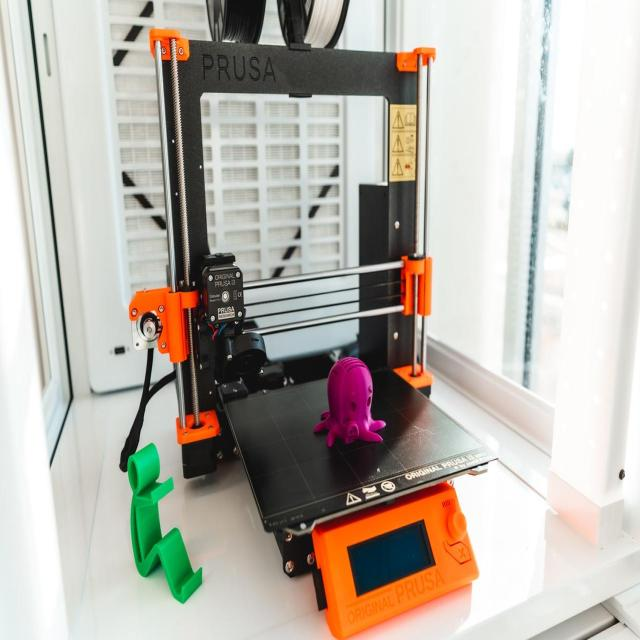Without deffect: (306, 349, 390, 450)
